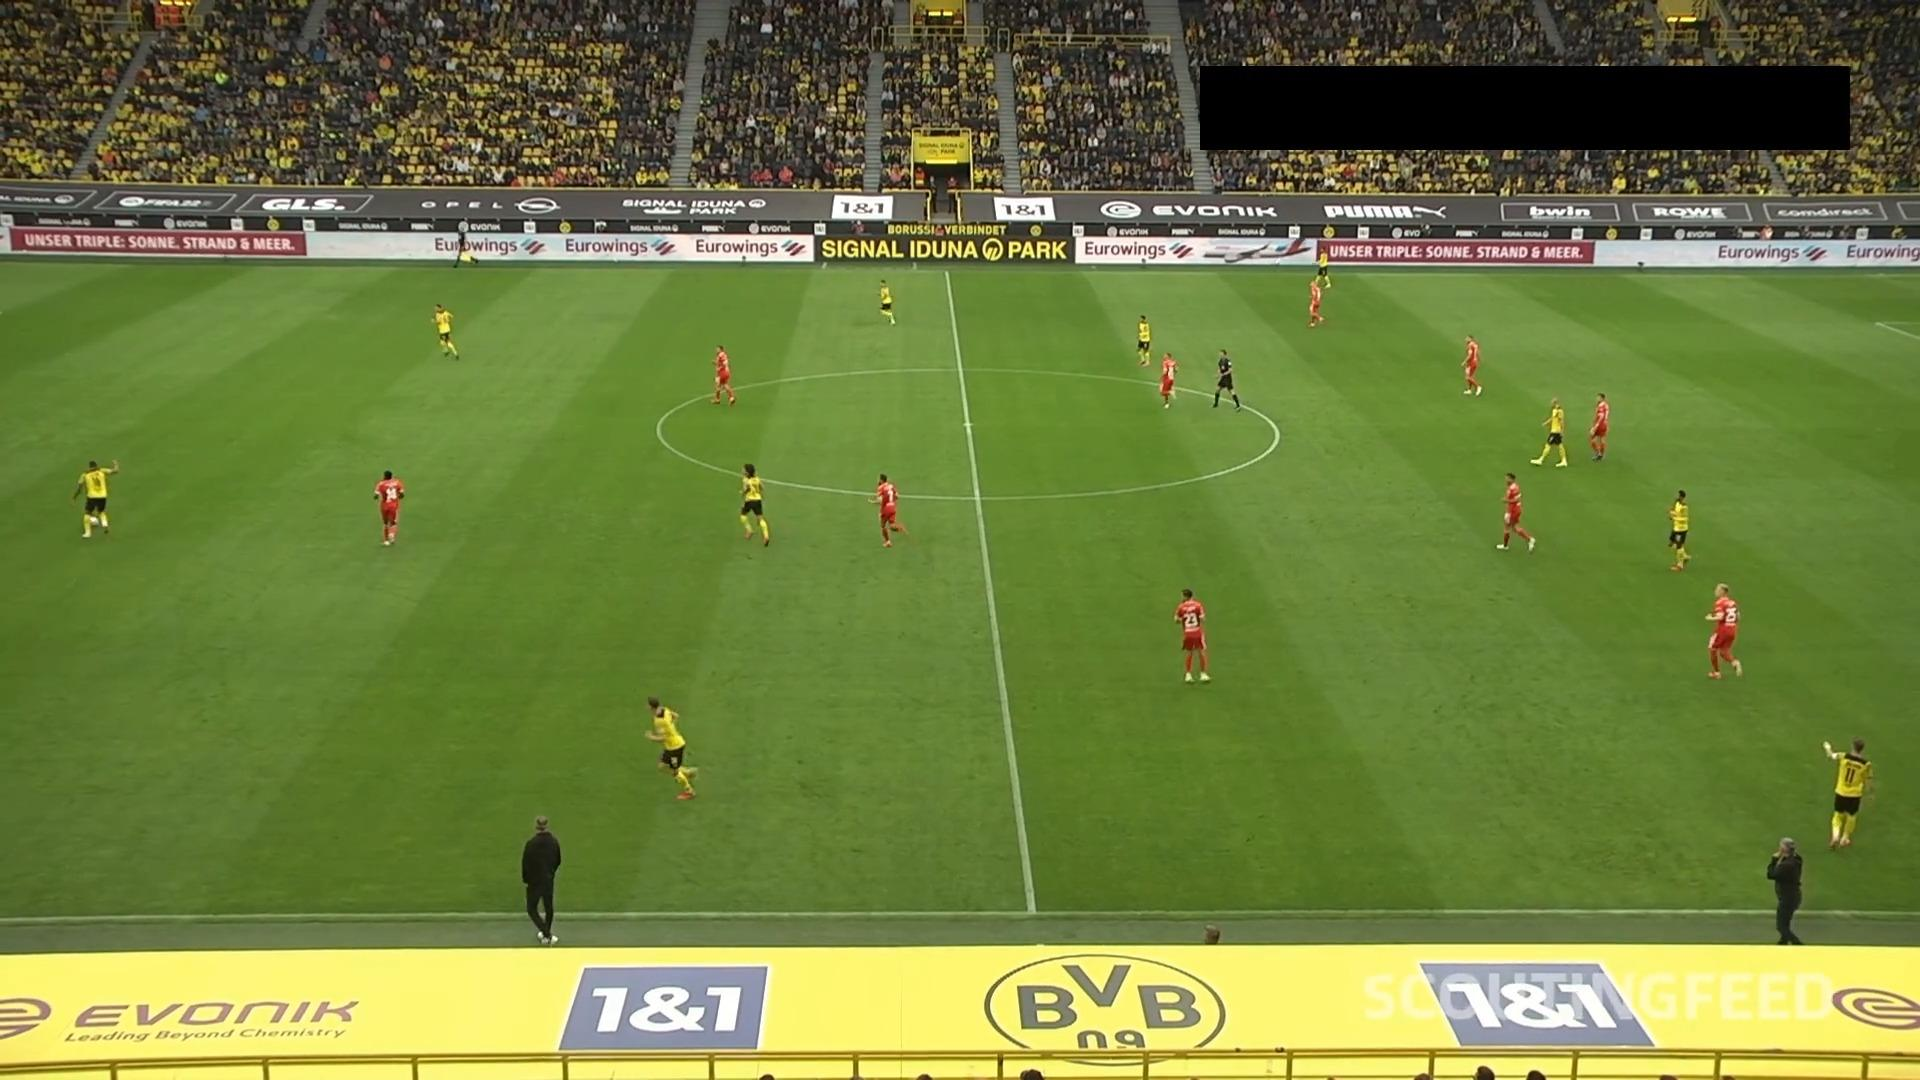ball: (87, 514, 100, 529)
